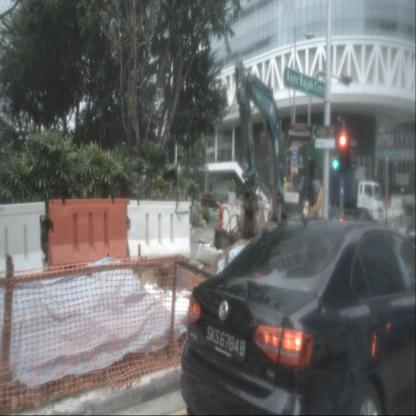barrier: (47, 198, 131, 275), (126, 200, 192, 262), (0, 200, 47, 281), (221, 210, 246, 241), (383, 199, 391, 210), (392, 199, 401, 208), (401, 199, 406, 208)
